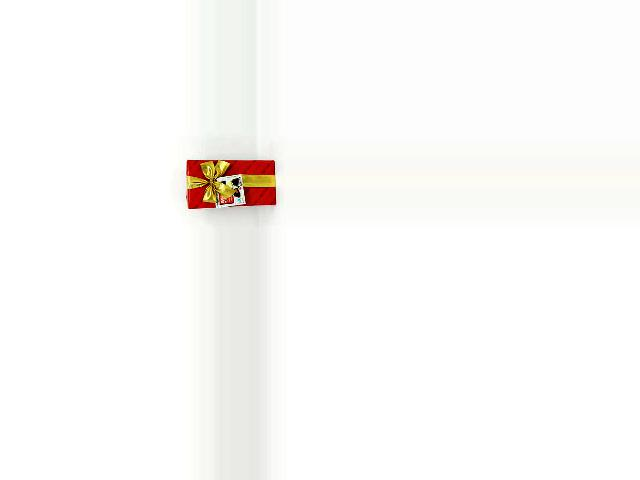chocolate: (183, 155, 274, 208)
